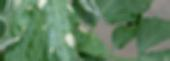Tomato leaf bacterial spot: (0, 0, 106, 61)
